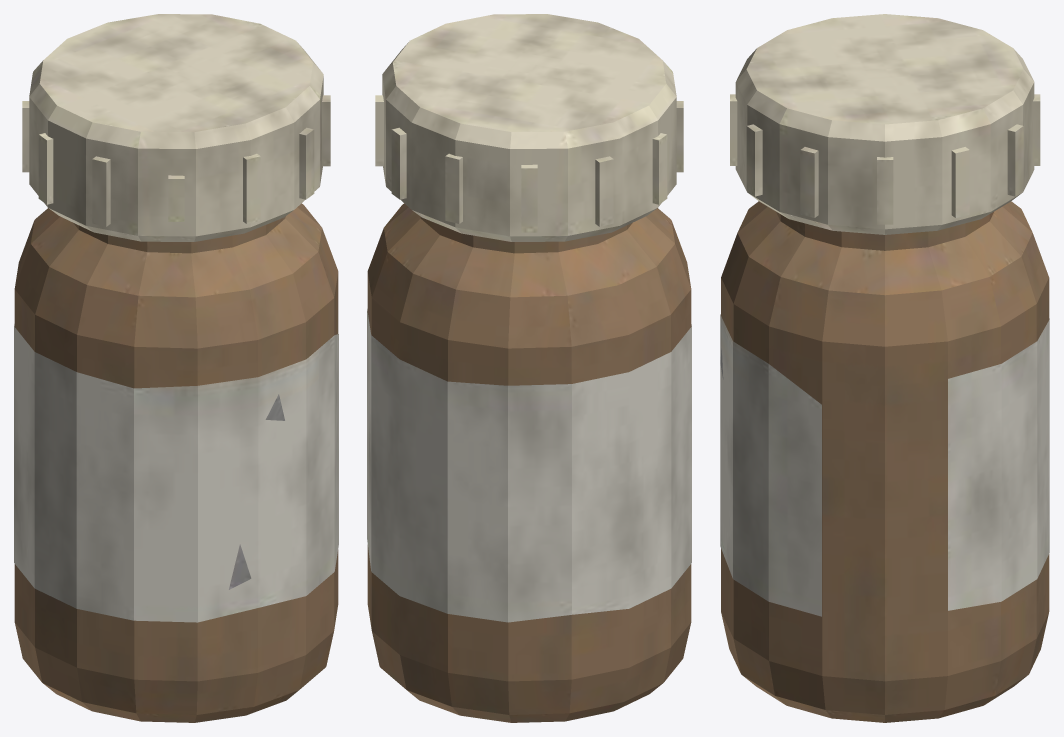
Rendered from P36_pill_bottle.glb.
3 renders of one model, left to right at view 1: azimuth 30°, elevation 25°; view 2: azimuth 150°, elevation 25°; view 3: azimuth 270°, elevation 25°, orthographic.
Visible parts, largest first — view 1: Amber bottle; view 2: Amber bottle; view 3: Amber bottle.
Part boxes in pixels (x1,y1,x2,y2): Amber bottle: (14, 14, 338, 722); Amber bottle: (367, 14, 691, 722); Amber bottle: (720, 14, 1049, 722).
Bounding box in the file's own units: 0.0398 × 0.08 × 0.0399.
Materials: 4 (4 with a texture image).
